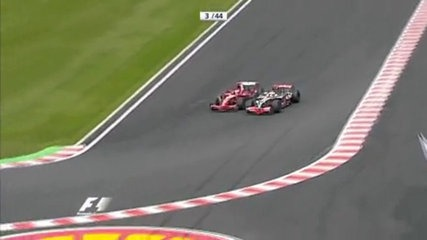race car: (244, 81, 302, 117), (208, 80, 264, 114)
